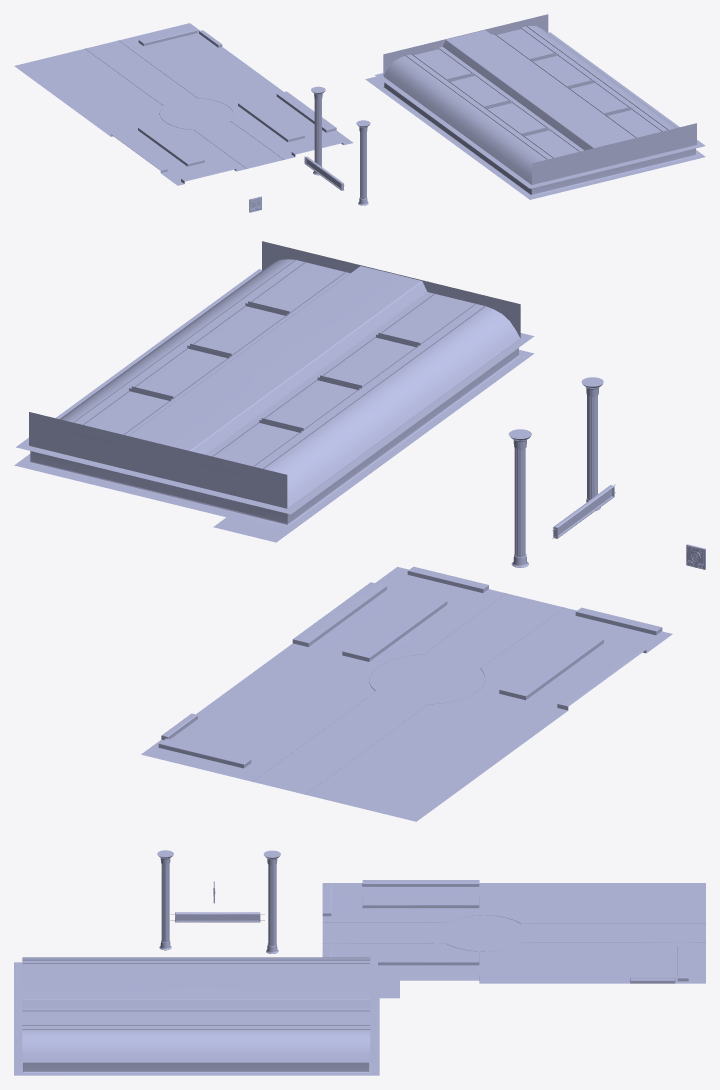
The model's file is TextureSet6_Colomn_ColomnSign_Ceiling_Floor_ElevatorDoor.fbx.
3 views of the same model, one above another, from view 1: azimuth 30°, elevation 25°; view 2: azimuth 150°, elevation 25°; view 3: azimuth 270°, elevation 25° (orthographic). The views are drawn at different scales.
Visible parts, largest first — view 1: Casino_Floor, CasinoCeiling_Base1, CasinoCeiling_Trim, CasinoCeiling_Side1, CasinoCeiling_Side, PillarGroup_Tall_Pillar, PillarGroup_Medium_Pillar, CasinoPillar_Sign_Combined, Casino_Ceiling_Beam, Casino_Ceiling_Beam3; view 2: Casino_Floor, CasinoCeiling_Base1, CasinoCeiling_Trim, CasinoCeiling_Side, CasinoCeiling_Side1, PillarGroup_Tall_Pillar, PillarGroup_Medium_Pillar, CasinoPillar_Sign_Combined; view 3: Casino_Floor, CasinoCeiling_Base1, CasinoCeiling_Trim, Casino_Ceiling_Beam, PillarGroup_Tall_Pillar, PillarGroup_Medium_Pillar, CasinoPillar_Sign_Combined, Casino_Ceiling_Beam3, Casino_Ceiling_Beam2.
Boxes of the visible parts, box(x1,y1,x2,y2) form: Casino_Floor: box(14, 23, 353, 185); CasinoCeiling_Base1: box(383, 25, 676, 184); CasinoCeiling_Trim: box(365, 32, 705, 199); CasinoCeiling_Side1: box(532, 123, 696, 184); CasinoCeiling_Side: box(383, 14, 548, 75); PillarGroup_Tall_Pillar: box(311, 86, 325, 175); PillarGroup_Medium_Pillar: box(356, 120, 370, 205); CasinoPillar_Sign_Combined: box(304, 156, 344, 190); Casino_Ceiling_Beam: box(405, 54, 553, 159); Casino_Ceiling_Beam3: box(521, 26, 668, 131); Casino_Floor: box(141, 566, 672, 821); CasinoCeiling_Base1: box(60, 259, 519, 508); CasinoCeiling_Trim: box(14, 269, 534, 542); CasinoCeiling_Side: box(29, 412, 287, 508); CasinoCeiling_Side1: box(262, 241, 520, 337); PillarGroup_Tall_Pillar: box(508, 429, 531, 567); PillarGroup_Medium_Pillar: box(581, 377, 603, 510); CasinoPillar_Sign_Combined: box(552, 484, 615, 538); Casino_Floor: box(322, 880, 705, 983); CasinoCeiling_Base1: box(22, 957, 370, 1059); CasinoCeiling_Trim: box(14, 962, 399, 1075); Casino_Ceiling_Beam: box(22, 959, 370, 963); PillarGroup_Tall_Pillar: box(263, 850, 280, 953); PillarGroup_Medium_Pillar: box(157, 850, 173, 950); CasinoPillar_Sign_Combined: box(170, 912, 264, 922); Casino_Ceiling_Beam3: box(22, 1025, 370, 1029); Casino_Ceiling_Beam2: box(22, 1010, 369, 1011).
Size of the model in its own units: 73.2 by 14.68 by 94.61.
